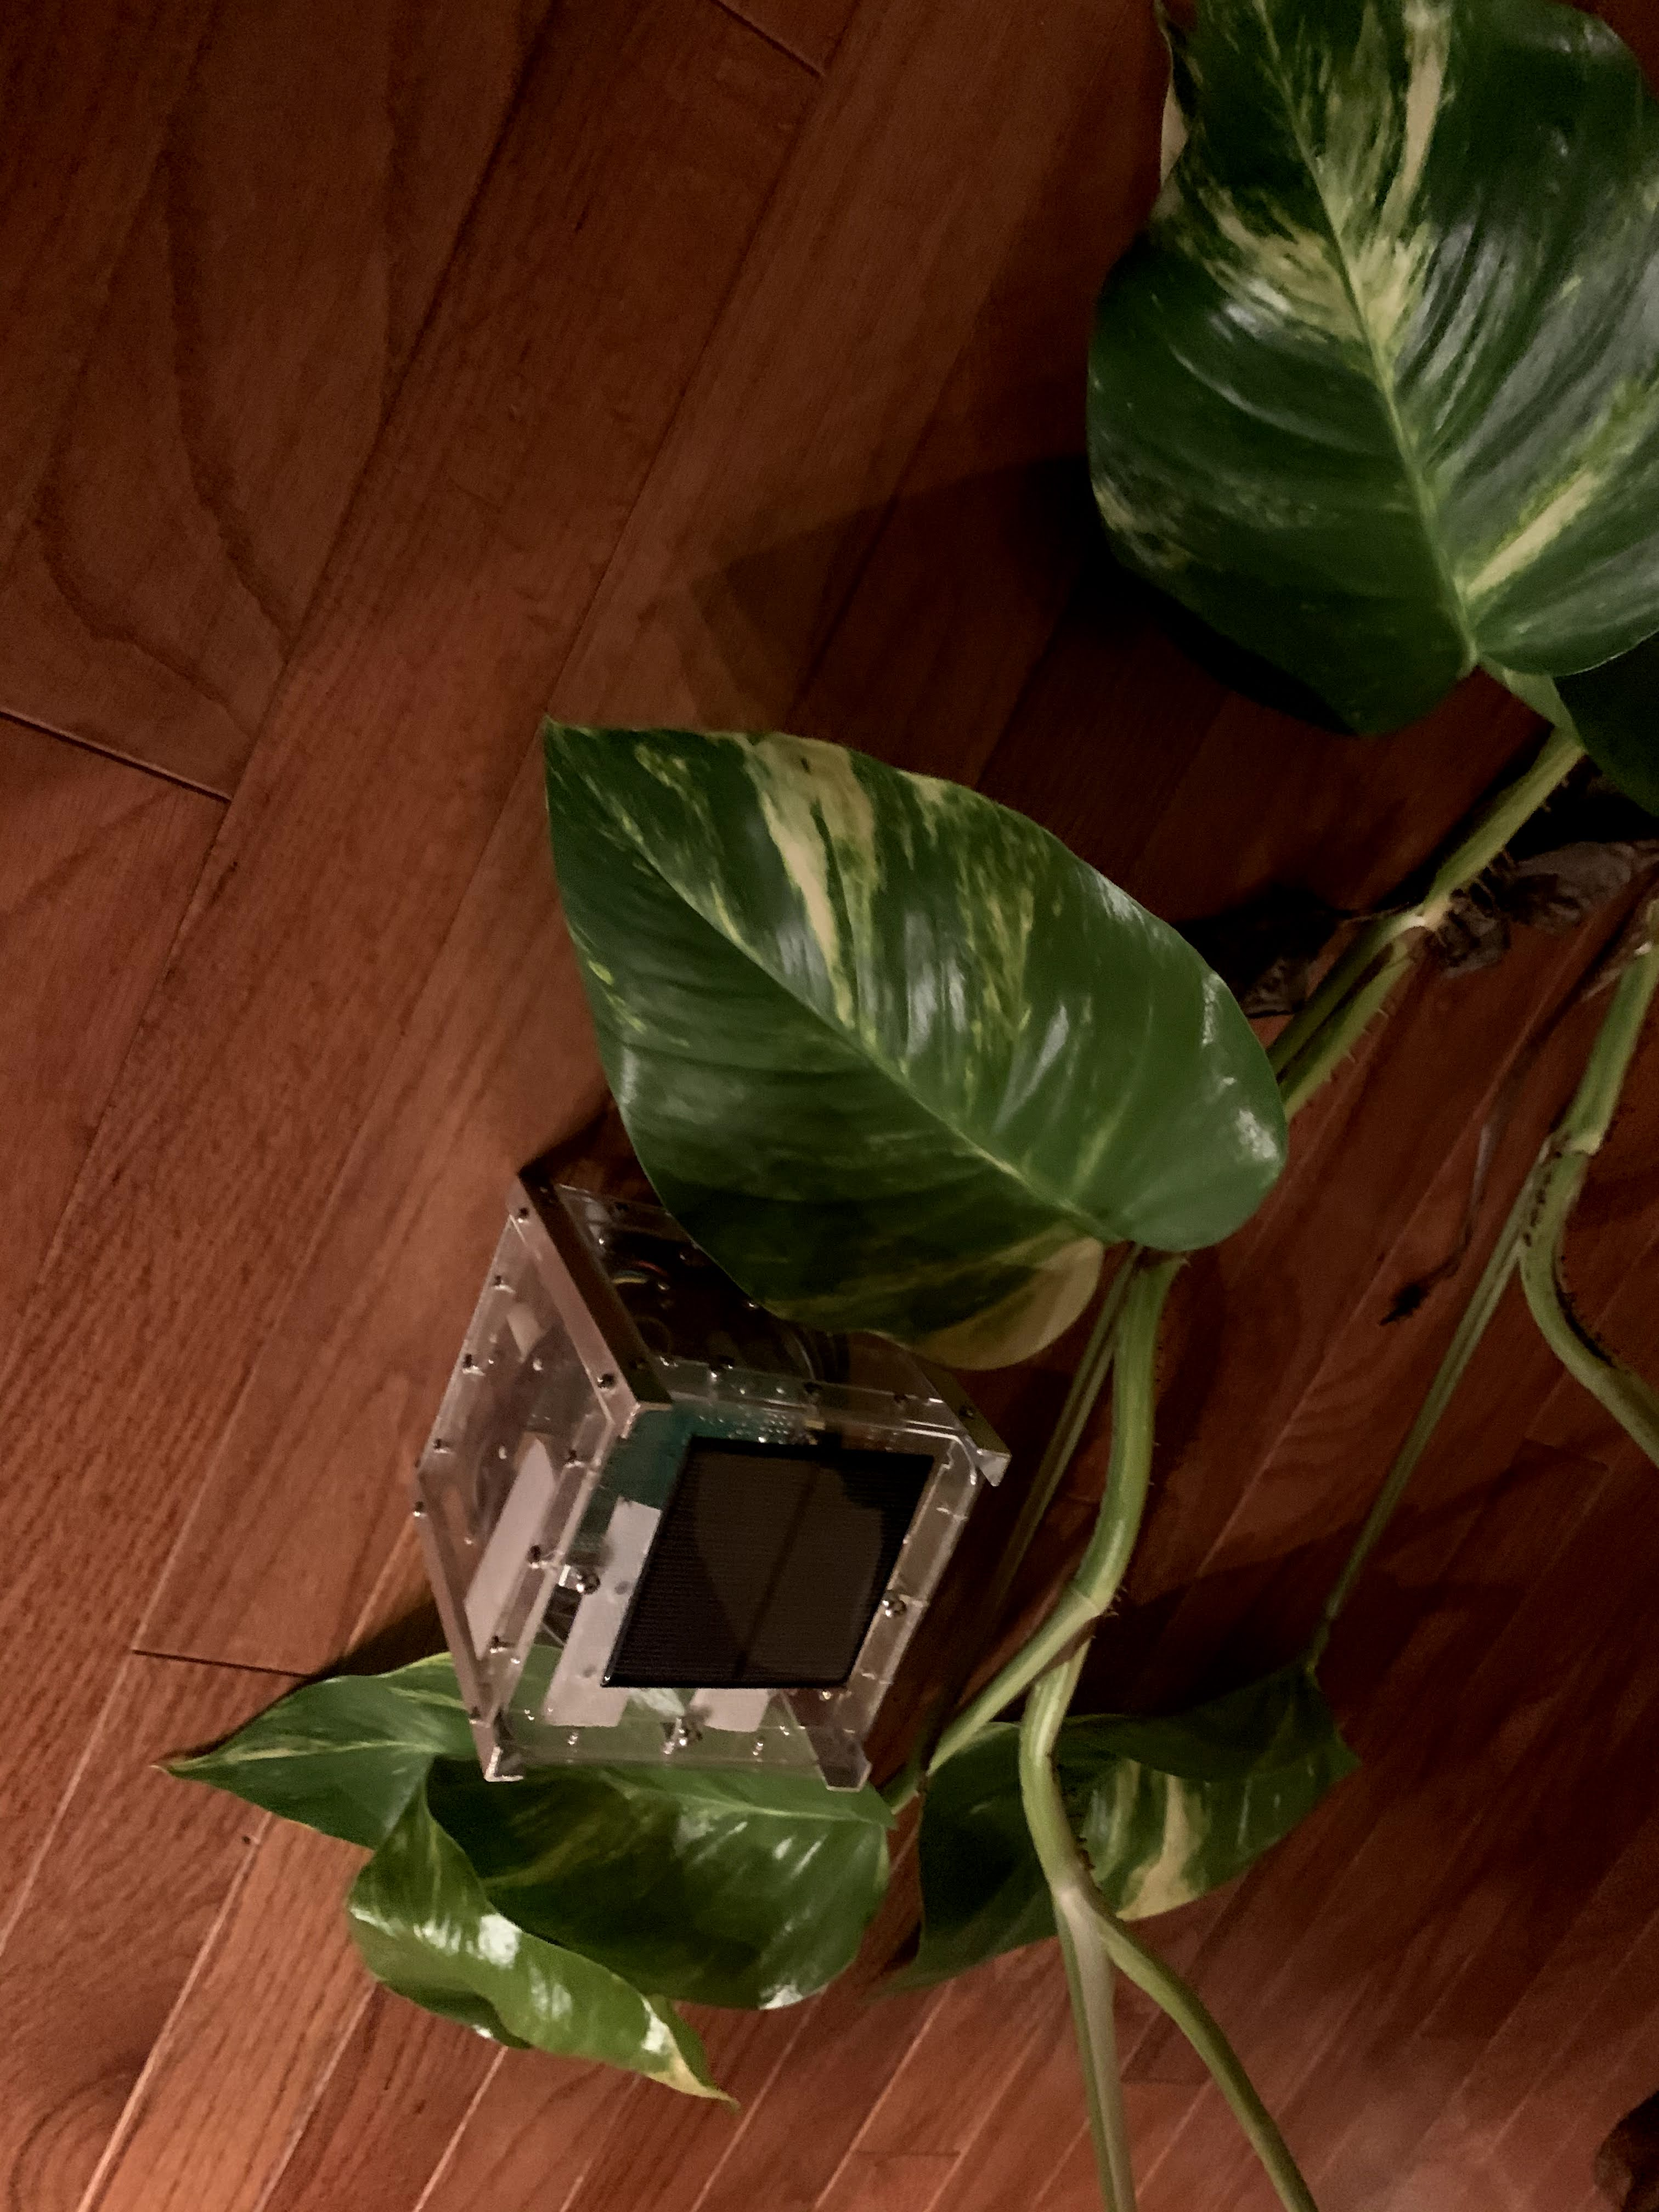Space-debris-cubesat: (368, 1130, 1023, 1817)
